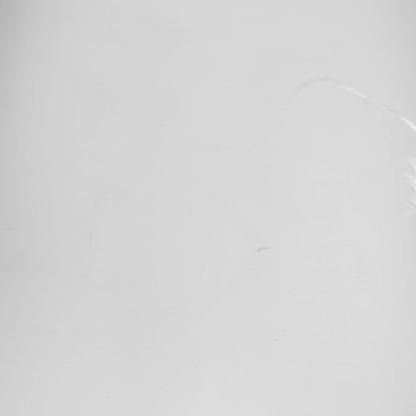sunshang: (345, 79, 416, 138), (406, 156, 416, 215)
